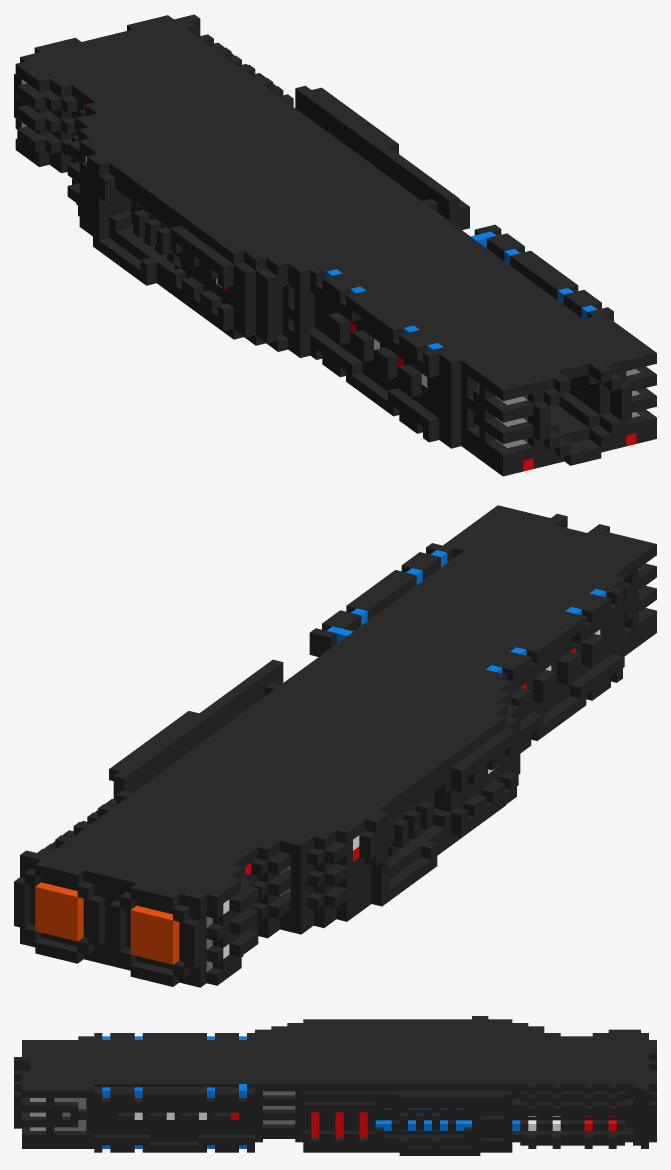
The model's file is Extra-13-DualStriker_Arm_L.obj.
The picture shows the model from 3 angles, top to bottom: view 1: azimuth 30°, elevation 25°; view 2: azimuth 150°, elevation 25°; view 3: azimuth 270°, elevation 25°; orthographic projection. The views are drawn at different scales.
Parts seen in each view (by area): view 1: DualStriker_Arm_L; view 2: DualStriker_Arm_L; view 3: DualStriker_Arm_L.
Part boxes in pixels (<box>): DualStriker_Arm_L: <box>14,14,656,476</box>; DualStriker_Arm_L: <box>14,505,656,987</box>; DualStriker_Arm_L: <box>14,1016,656,1155</box>.
Bounding box in the file's own units: 2.4 × 0.8 × 8.
1 material, 1 textured.
